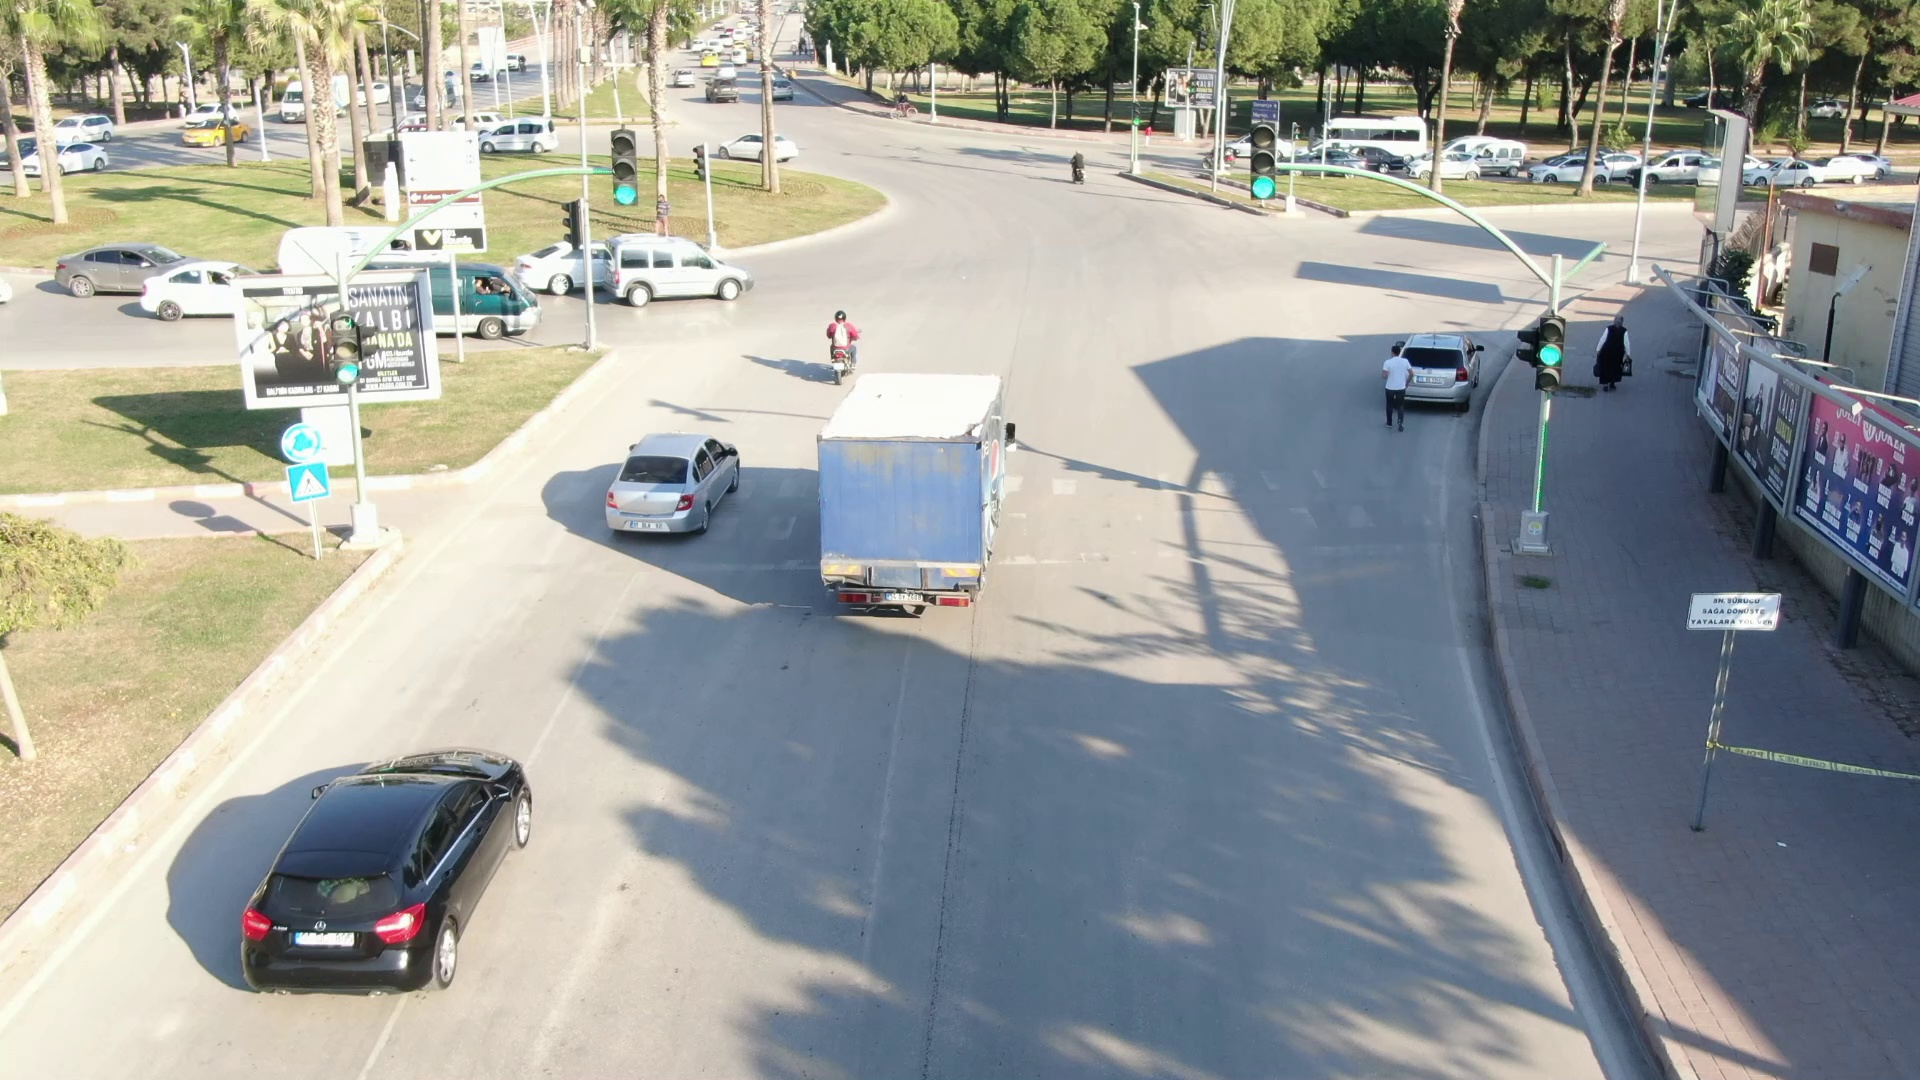car: (226, 733, 539, 1011), (598, 407, 770, 548), (598, 224, 756, 310), (42, 233, 216, 305), (468, 115, 564, 157), (712, 125, 805, 169), (175, 114, 260, 152)
person: (1581, 308, 1639, 397), (1372, 342, 1420, 433)
